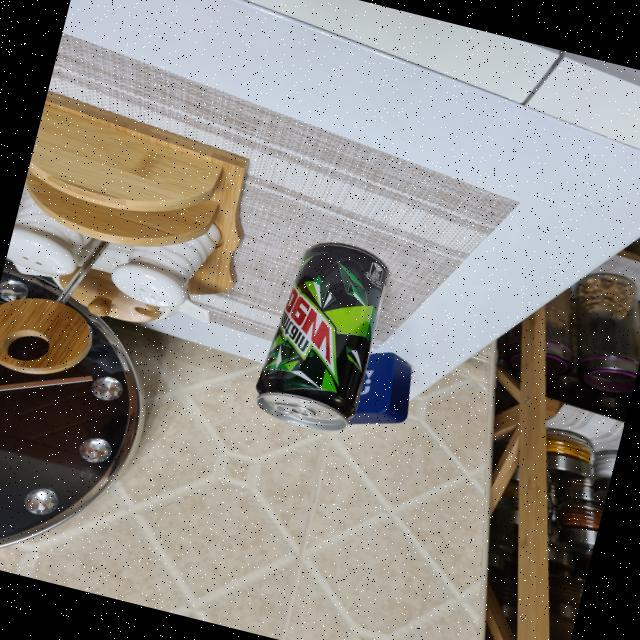debris: (252, 233, 396, 438)
